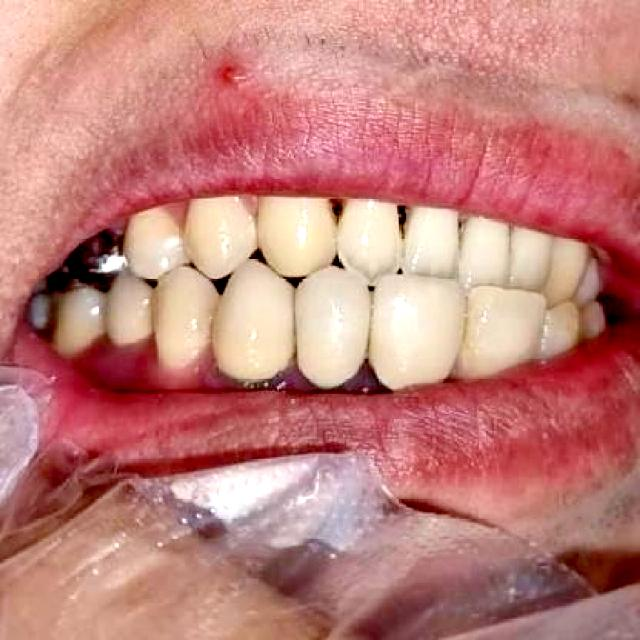Plaque: (203, 342, 385, 412)
